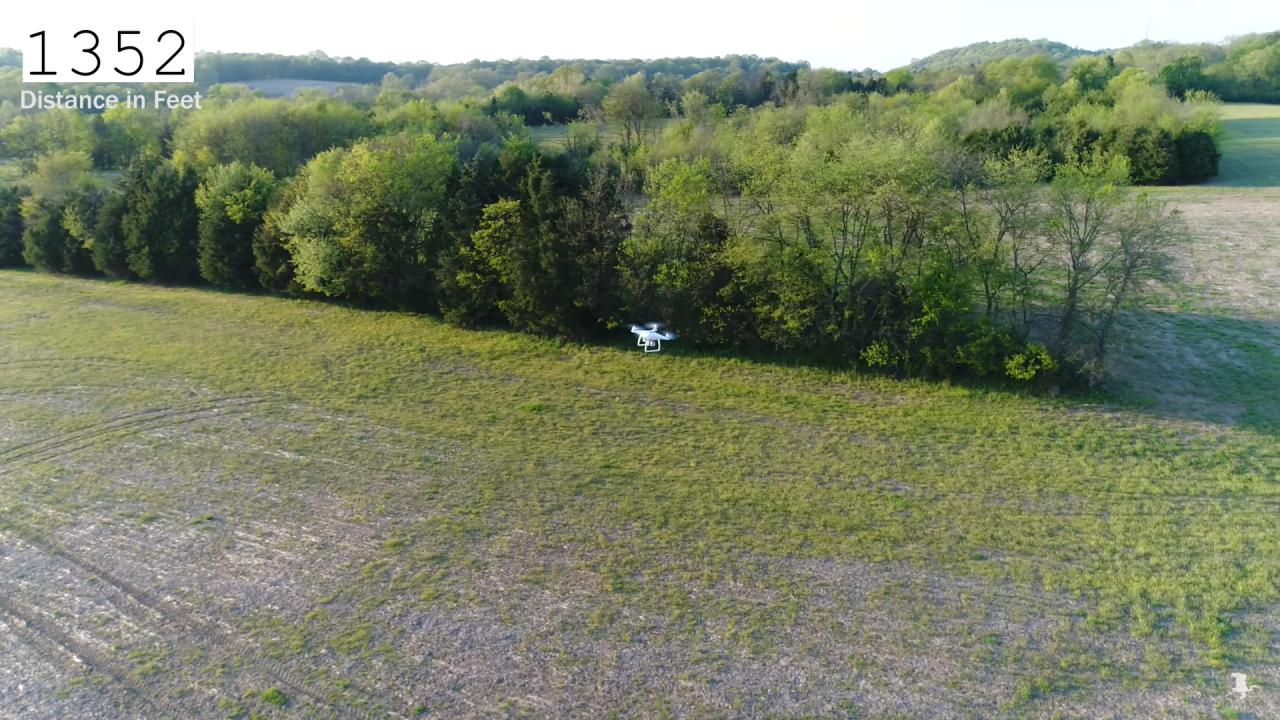Drone: (619, 311, 688, 361)
